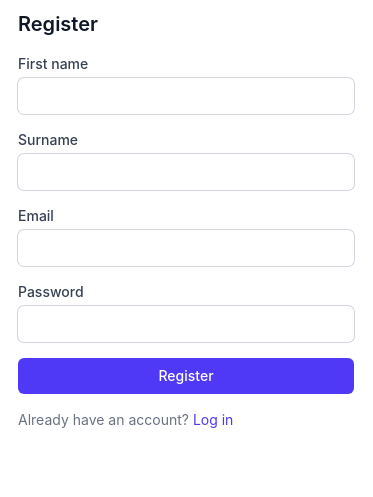
Test: RegisterPage › shows a duplicate-email error from the API (Edge Case)
Type "Alice" into the field labelled "First name" at x=186, y=96, box [18, 78, 354, 114]
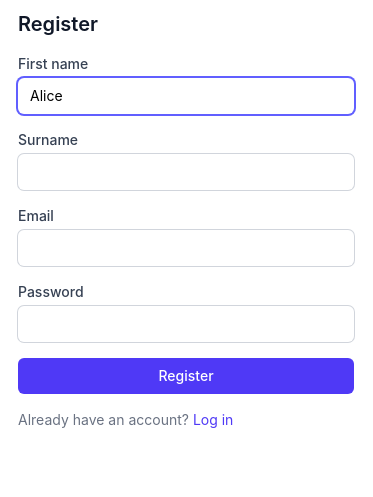
Type "Owner" into the field labelled "Surname" at x=186, y=172, box [18, 154, 354, 190]
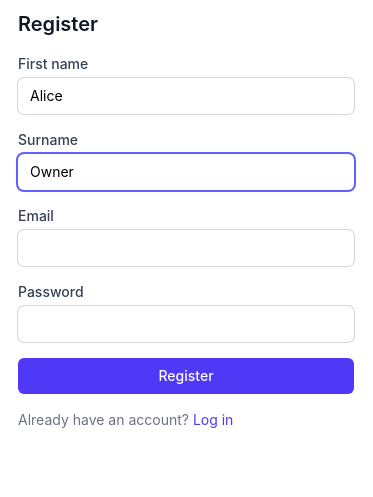
Type "alice@example.com" into the field labelled "Email" at x=186, y=248, box [18, 230, 354, 266]
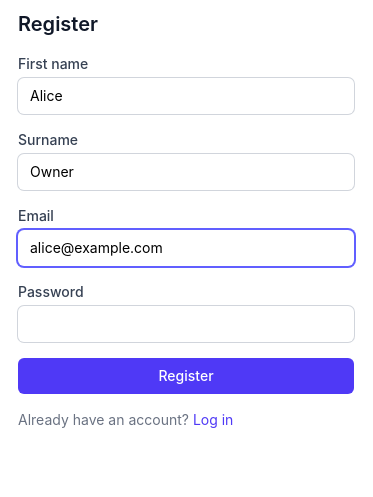
Type "password123" into the password field labelled "Password" at x=186, y=324, box [18, 306, 354, 342]
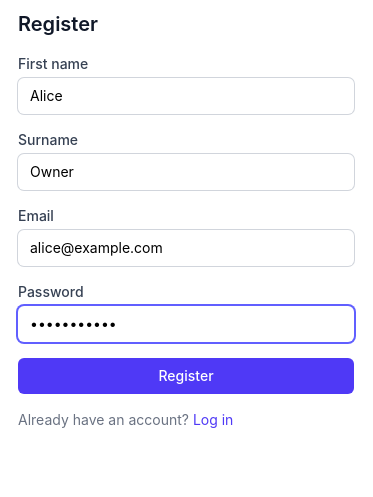
Click the button "Register" at x=186, y=376, box [18, 358, 354, 394]
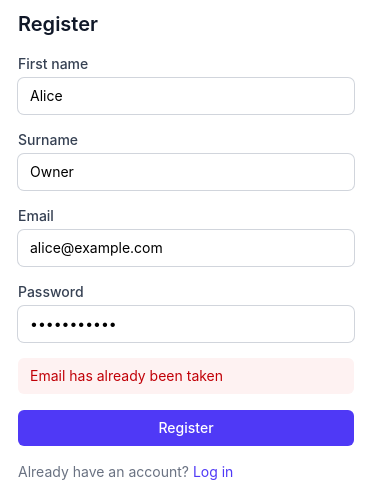
Expected: the text "Email has already been taken" is shown, [18, 358, 354, 394]
